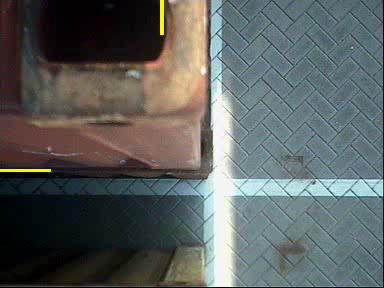groundmarker_2: (97, 21, 227, 105)
